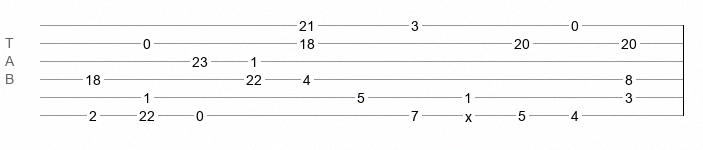0: (143, 36, 151, 46), (196, 108, 204, 118), (571, 18, 579, 28)
1: (143, 90, 151, 100), (250, 54, 258, 64), (464, 90, 472, 100)
18: (85, 72, 101, 82), (299, 36, 315, 46)
2: (89, 108, 97, 118)
20: (514, 36, 530, 46), (621, 36, 637, 46)
21: (299, 18, 315, 28)
22: (139, 108, 155, 118), (246, 72, 262, 82)
23: (192, 54, 208, 64)
3: (411, 18, 419, 28), (625, 90, 633, 100)
4: (303, 72, 311, 82), (571, 108, 579, 118)
5: (357, 90, 365, 100), (518, 108, 526, 118)
7: (411, 108, 419, 118)
8: (625, 72, 633, 82)
x: (465, 109, 472, 117)
